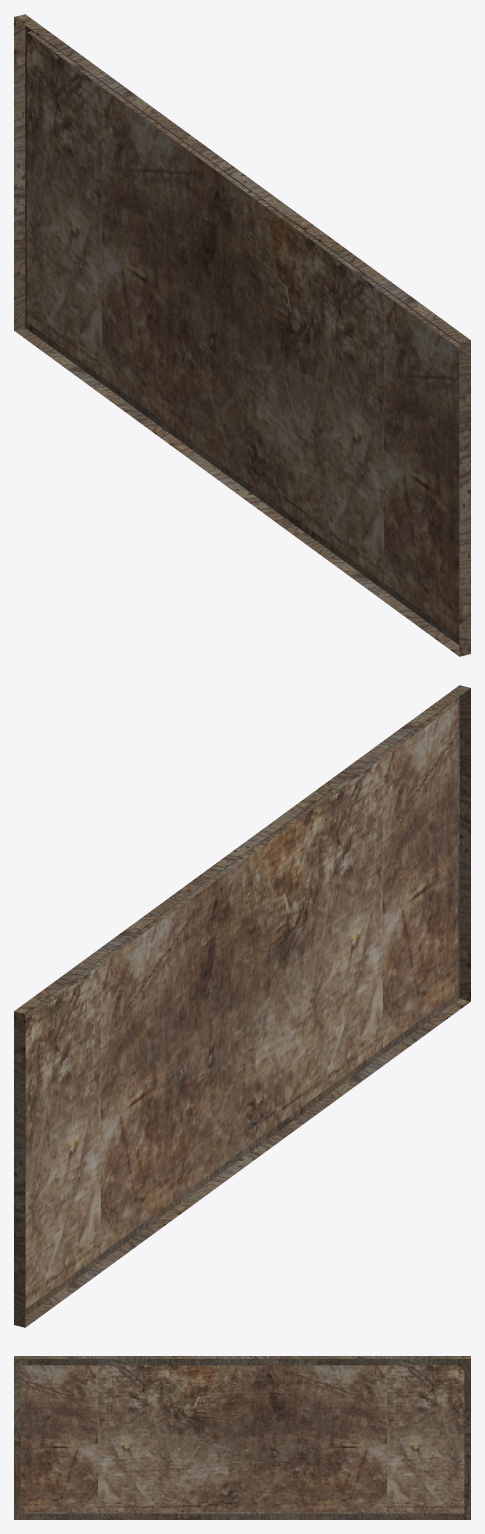
The model's file is _Cardboard_1.FBX.
3 views of the same model, one above another, from view 1: azimuth 30°, elevation 25°; view 2: azimuth 150°, elevation 25°; view 3: azimuth 270°, elevation 25° (orthographic). The views are drawn at different scales.
Visible parts, largest first — view 1: _Cardboard_1; view 2: _Cardboard_1; view 3: _Cardboard_1.
Boxes of the visible parts, left/top/right/bottom form: _Cardboard_1: left=14, top=14, right=470, bottom=656; _Cardboard_1: left=14, top=685, right=470, bottom=1327; _Cardboard_1: left=14, top=1356, right=470, bottom=1519.
Size of the model in its own units: 3.5 by 92.07 by 237.
2 materials, 2 textured.
